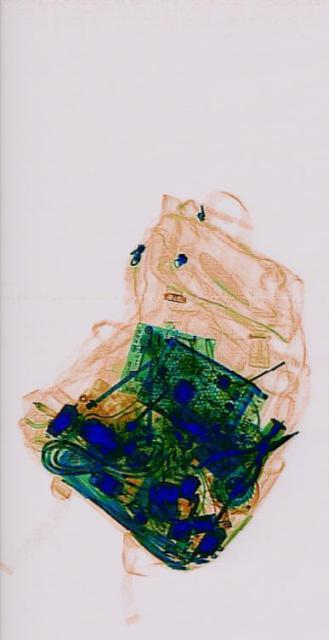Pliers: (193, 396, 301, 520)
